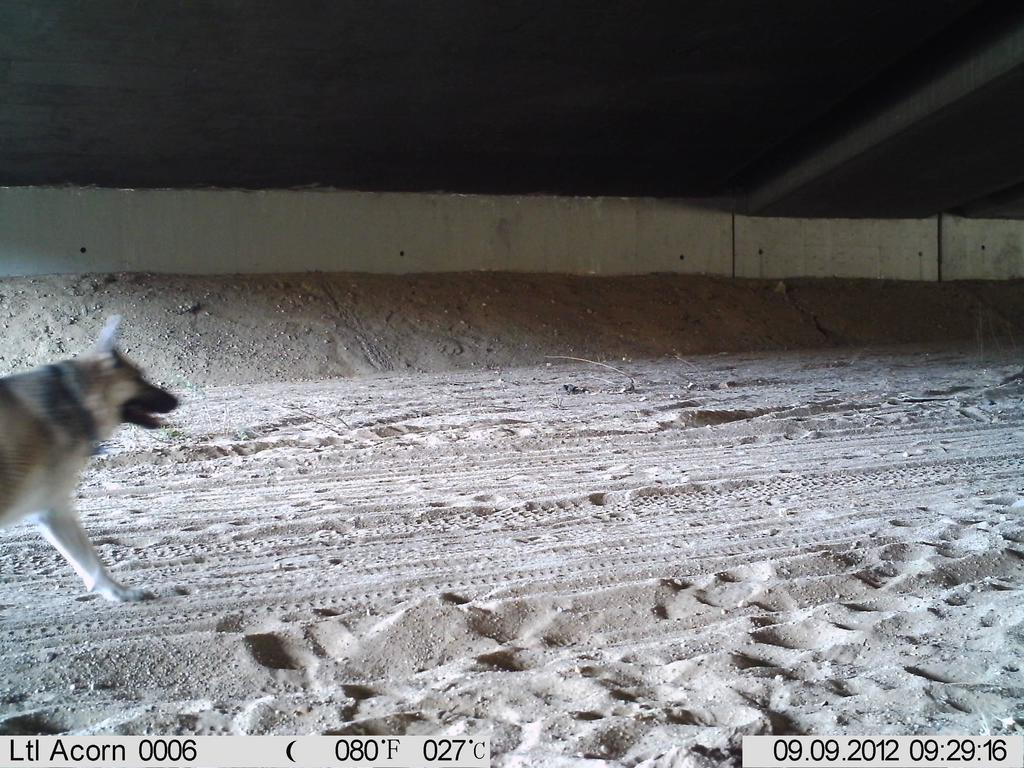dog: (3, 310, 186, 615)
